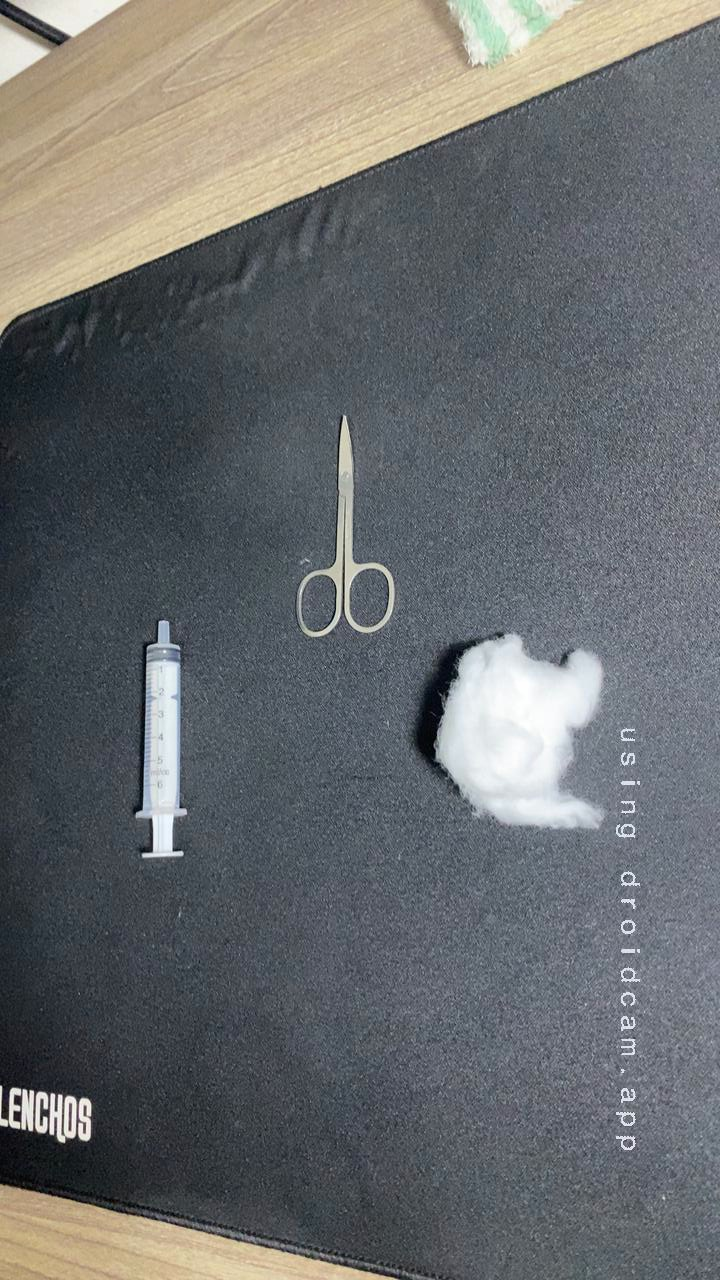cotton: (401, 623, 646, 841)
scissor: (270, 403, 413, 647)
syringe: (110, 606, 210, 874)
